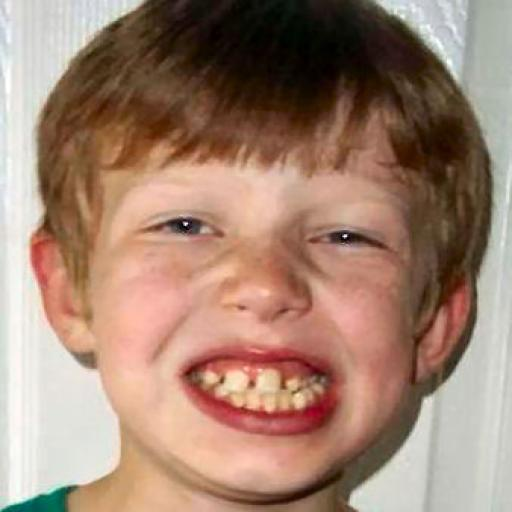Autism: (32, 12, 512, 490)
